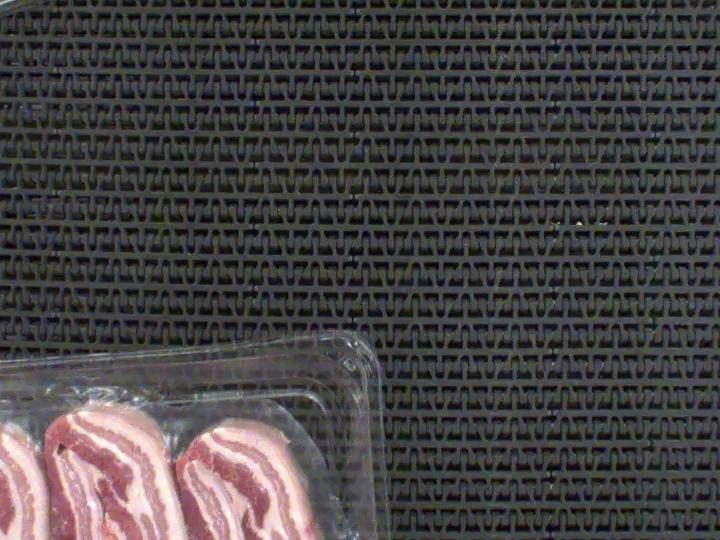unsealed: (0, 373, 371, 540)
